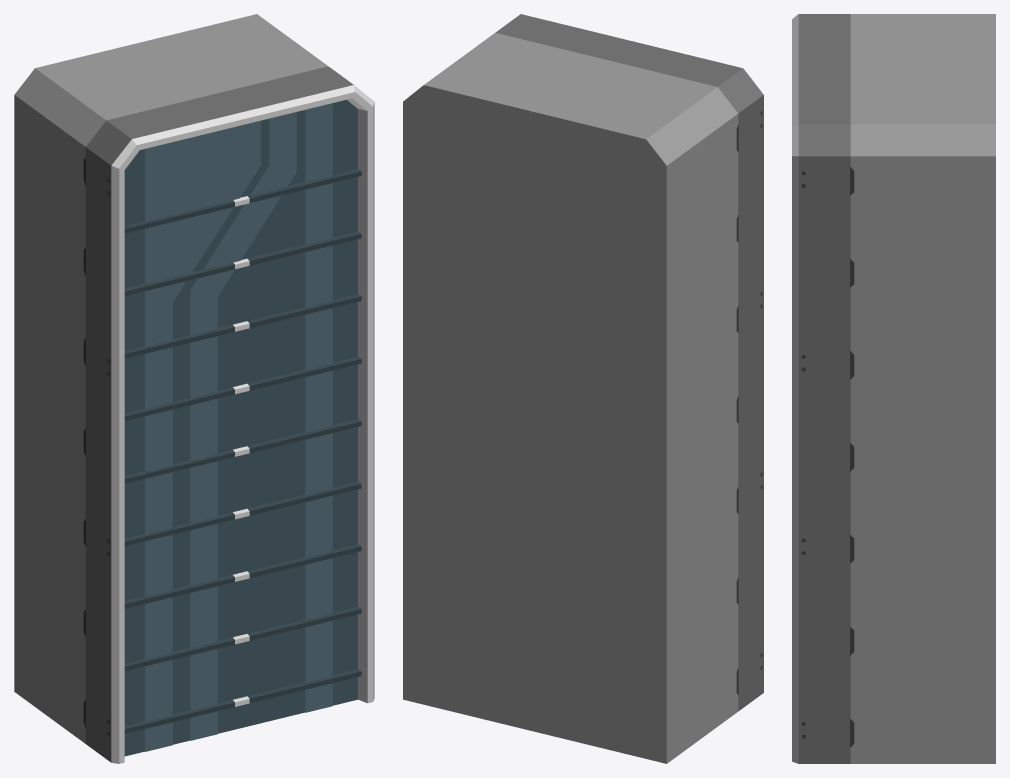
The model's file is space_station_008.fbx.
The picture shows the model from 3 angles, left to right: view 1: azimuth 30°, elevation 25°; view 2: azimuth 150°, elevation 25°; view 3: azimuth 270°, elevation 25°; orthographic projection.
Parts seen in each view (by area): view 1: space_station_008; view 2: space_station_008; view 3: space_station_008.
Boxes of the visible parts, x1,y1,x2,y2 form: space_station_008: (14,14,374,763); space_station_008: (403,14,763,763); space_station_008: (792,14,995,763).
Size of the model in its own units: 1419 by 933 by 3183.
